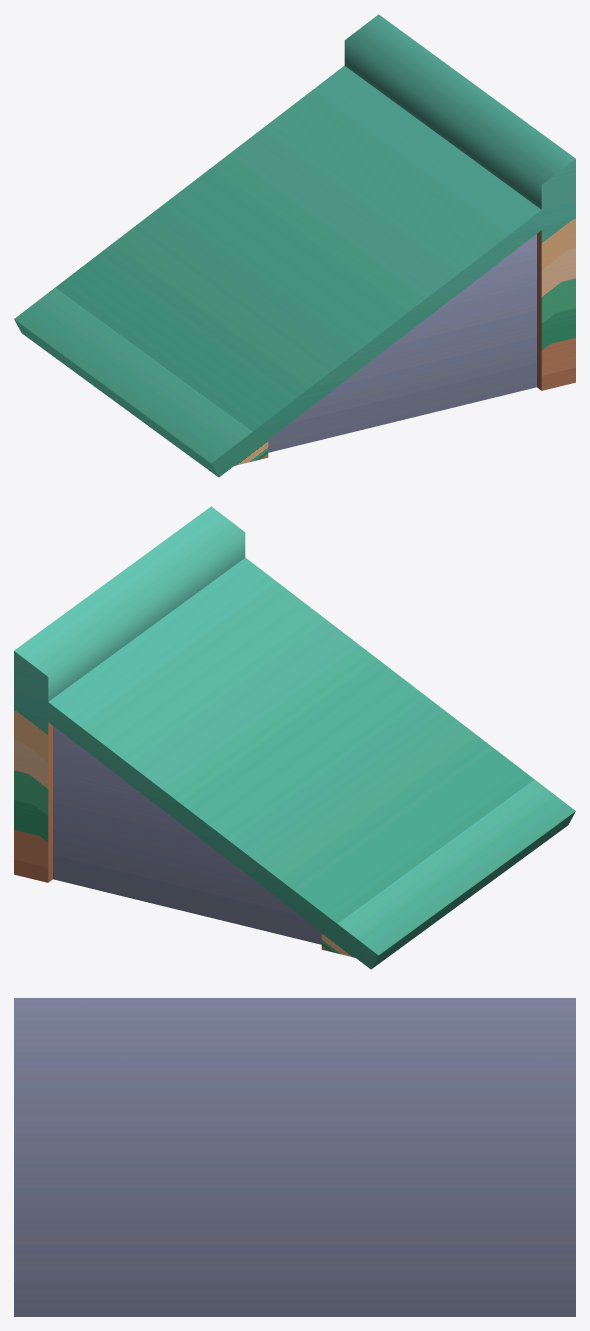
Rendered from roof.glb.
3 renders of one model, top to bottom at view 1: azimuth 30°, elevation 25°; view 2: azimuth 150°, elevation 25°; view 3: azimuth 270°, elevation 25°, orthographic. The views are drawn at different scales.
Visible parts, largest first — view 1: roof; view 2: roof; view 3: roof.
Boxes of the visible parts, x1,y1,x2,y2 form: roof: [14, 14, 575, 477]; roof: [14, 506, 575, 969]; roof: [14, 998, 575, 1316].
Bounding box in the file's own units: 1.07 × 0.6483 × 1.
1 material, 1 textured.
